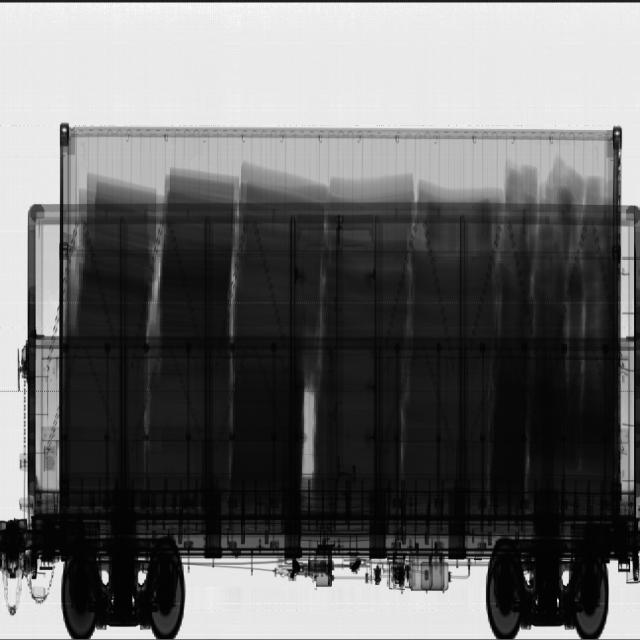fabrics: (63, 160, 612, 488)
